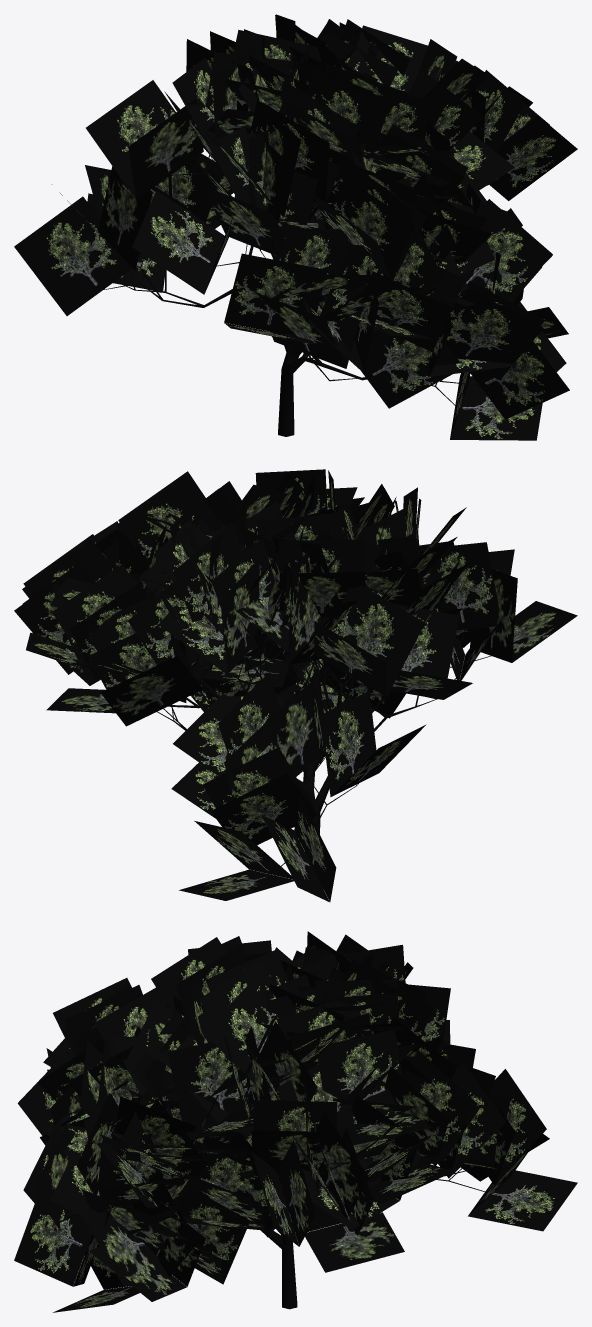
Rendered from tree_green.glb.
The picture shows the model from 3 angles, top to bottom: view 1: azimuth 30°, elevation 25°; view 2: azimuth 150°, elevation 25°; view 3: azimuth 270°, elevation 25°; orthographic projection. The views are drawn at different scales.
Size of the model in its own units: 7.7 by 6.29 by 8.85.
Materials: 2 (1 with a texture image).
